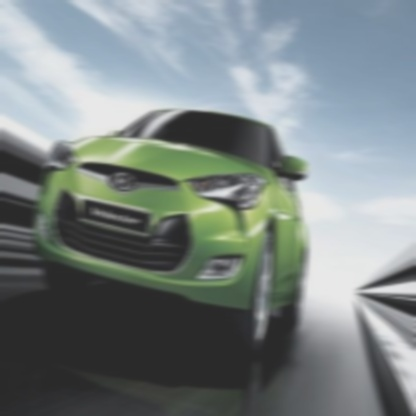Vehicle: (32, 107, 310, 346)
